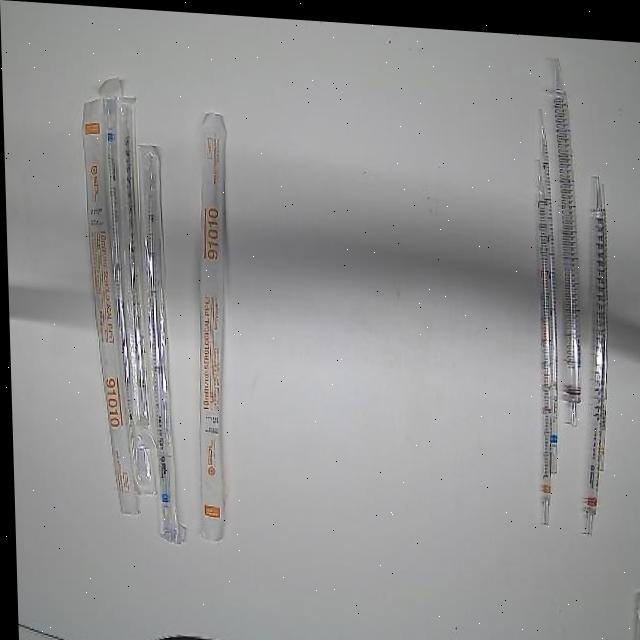Serelogical Pipet 1 mL: (589, 170, 613, 466)
Serelogical Pipet 10 mL: (527, 152, 555, 520)
Serelogical Pipet 10 mL - Sealed: (80, 91, 141, 520), (185, 101, 239, 544)
Serelogical Pipet 2 mL - Sealed: (113, 90, 157, 449)
Serelogical Pipet 25 mL: (572, 164, 609, 537)
Serelogical Pipet 5 mL: (536, 99, 558, 471)
Serelogical Pipet 5 mL - Sealed: (135, 136, 187, 547), (96, 70, 142, 477)
Serelogical Pipet 50 mL: (547, 48, 587, 420)
